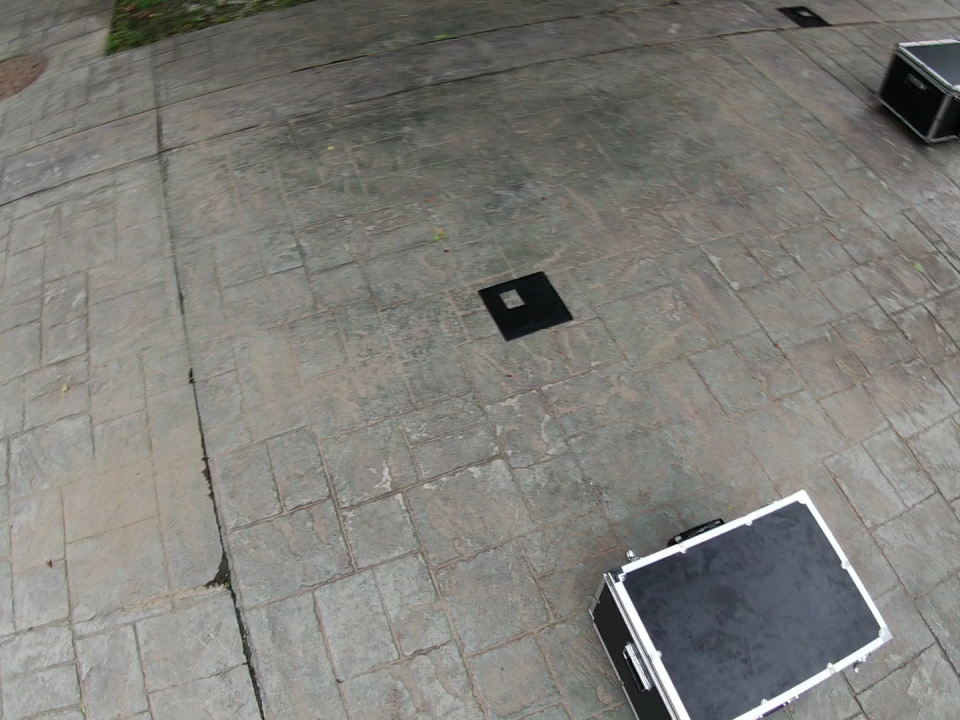box: (588, 489, 893, 720)
qrcode: (478, 272, 574, 341), (776, 5, 832, 27)
